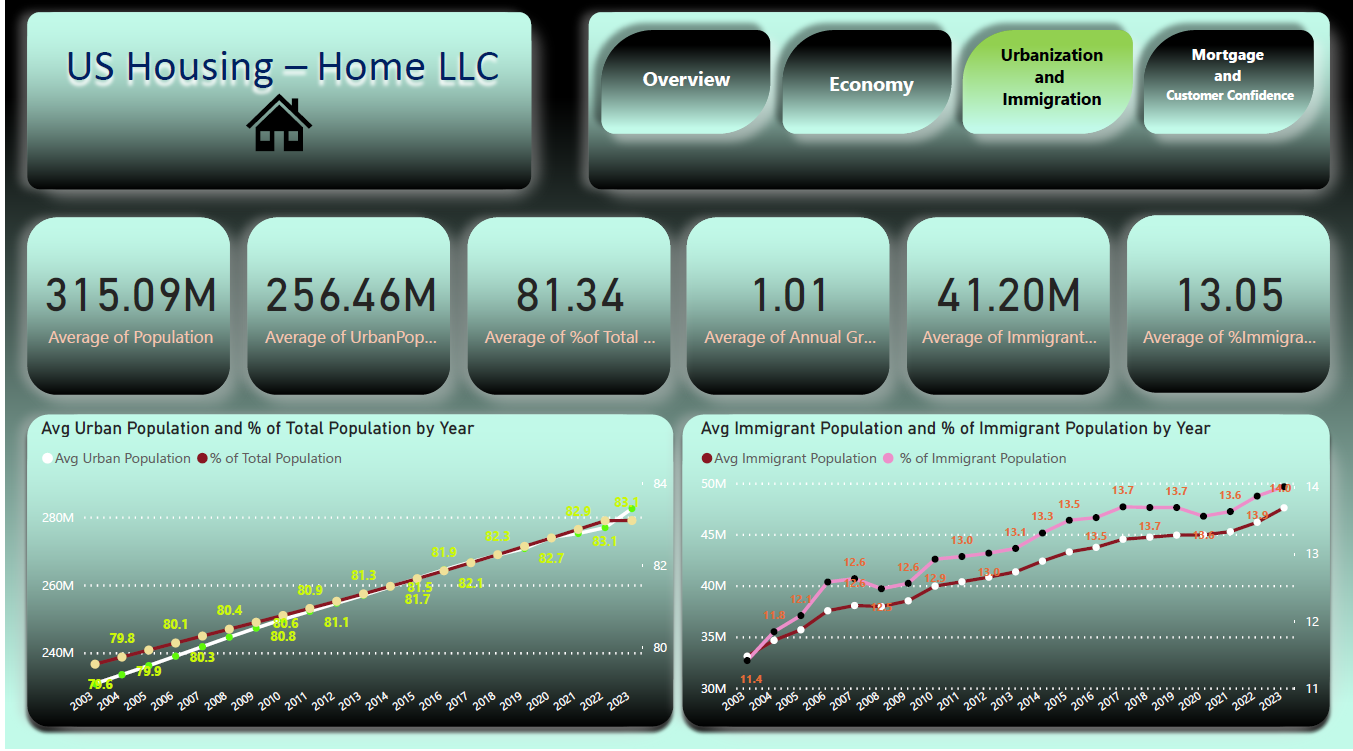

The dashboard page shown, as its layout file describes it:
{"tool":"powerbi","page":{"name":"Urbanization and Immigration","canvas":[1280,720],"ordinal":2},"visuals":[{"type":"card","fields":{"Values":["Avg(US Housing.Population)"]},"box":[30,222.6,180,140],"z":0},{"type":"card","fields":{"Values":["Avg(US Housing.UrbanPopulation)"]},"box":[238.5,222.6,180,140],"z":1000},{"type":"card","fields":{"Values":["Avg(US Housing.%of Total Population)"]},"box":[447,222.6,180,140],"z":2000},{"type":"card","fields":{"Values":["Avg(US Housing.Annual Growth of Urban Population)"]},"box":[655.5,222.6,180,140],"z":3000},{"type":"card","fields":{"Values":["Avg(US Housing.%Immigrant Population)"]},"box":[1072.5,222.6,180,140],"z":4000},{"type":"card","fields":{"Values":["Avg(US Housing.Immigrant Population)"]},"box":[864,222.6,180,140],"z":5000},{"type":"lineChart","fields":{"Y2":["Avg(US Housing.%of Total Population)"],"Y":["Avg(US Housing.UrbanPopulation)"],"Category":["US Housing.Date.Variation.Date Hierarchy.Year","US Housing.Date.Variation.Date Hierarchy.Quarter","US Housing.Date.Variation.Date Hierarchy.Month","US Housing.Date.Variation.Date Hierarchy.Day"]},"box":[30,402.5,603.8,291.2],"z":6000},{"type":"textbox","box":[584.3,46.4,127.3,71.4],"z":7000,"group":"g1"},{"type":"lineChart","fields":{"Y2":["Avg(US Housing.%Immigrant Population)"],"Category":["US Housing.Date.Variation.Date Hierarchy.Year","US Housing.Date.Variation.Date Hierarchy.Quarter","US Housing.Date.Variation.Date Hierarchy.Month","US Housing.Date.Variation.Date Hierarchy.Day"],"Y":["Avg(US Housing.Immigrant Population)"]},"box":[656.2,402.5,596.2,291.2],"z":7000},{"type":"group","id":"g1","title":"Group 1","box":[572.4,34.5,148.8,95.2],"z":7001},{"type":"group","id":"g2","title":"Group 2","box":[746.2,34.5,148.8,95.2],"z":7002},{"type":"group","id":"g3","title":"Group 3","box":[916.4,34.5,157.1,95.2],"z":7003},{"type":"group","id":"g4","title":"Group 4","box":[1087.7,34.5,148.8,104.7],"z":7004},{"type":"shape","box":[572.4,34.5,148.8,95.2],"z":7500,"group":"g1"},{"type":"textbox","box":[756.9,51.2,127.3,71.4],"z":10000,"group":"g2"},{"type":"textbox","box":[916.4,42.8,157.1,86.9],"z":11000,"group":"g3"},{"type":"textbox","box":[1096,42.8,134.5,96.4],"z":12000,"group":"g4"},{"type":"shape","box":[746.2,34.5,148.8,95.2],"z":12004,"group":"g2"},{"type":"shape","box":[920,34.5,148.8,95.2],"z":12005,"group":"g3"},{"type":"shape","box":[1087.7,34.5,148.8,95.2],"z":12006,"group":"g4"}]}

Visuals, with their boxes in screenshot pixels (x1, y1, x2, y2), scaled from the page's 1280x720 canvas onto the 1353x751 screenshot:
card - Avg(US Housing.Population): 32 232 222 378
card - Avg(US Housing.UrbanPopulation): 252 232 442 378
card - Avg(US Housing.%of Total Population): 472 232 663 378
card - Avg(US Housing.Annual Growth of Urban Population): 693 232 883 378
card - Avg(US Housing.%Immigrant Population): 1134 232 1324 378
card - Avg(US Housing.Immigrant Population): 913 232 1104 378
lineChart - Avg(US Housing.%of Total Population) x Avg(US Housing.UrbanPopulation): 32 420 670 724
textbox: 618 48 752 123
lineChart - Avg(US Housing.%Immigrant Population) x US Housing.Date.Variation.Date Hierarchy.Year: 694 420 1324 724
"Group 1" group: 605 36 762 135
"Group 2" group: 789 36 946 135
"Group 3" group: 969 36 1135 135
"Group 4" group: 1150 36 1307 145
shape: 605 36 762 135
textbox: 800 53 935 128
textbox: 969 45 1135 135
textbox: 1159 45 1301 145
shape: 789 36 946 135
shape: 972 36 1130 135
shape: 1150 36 1307 135
